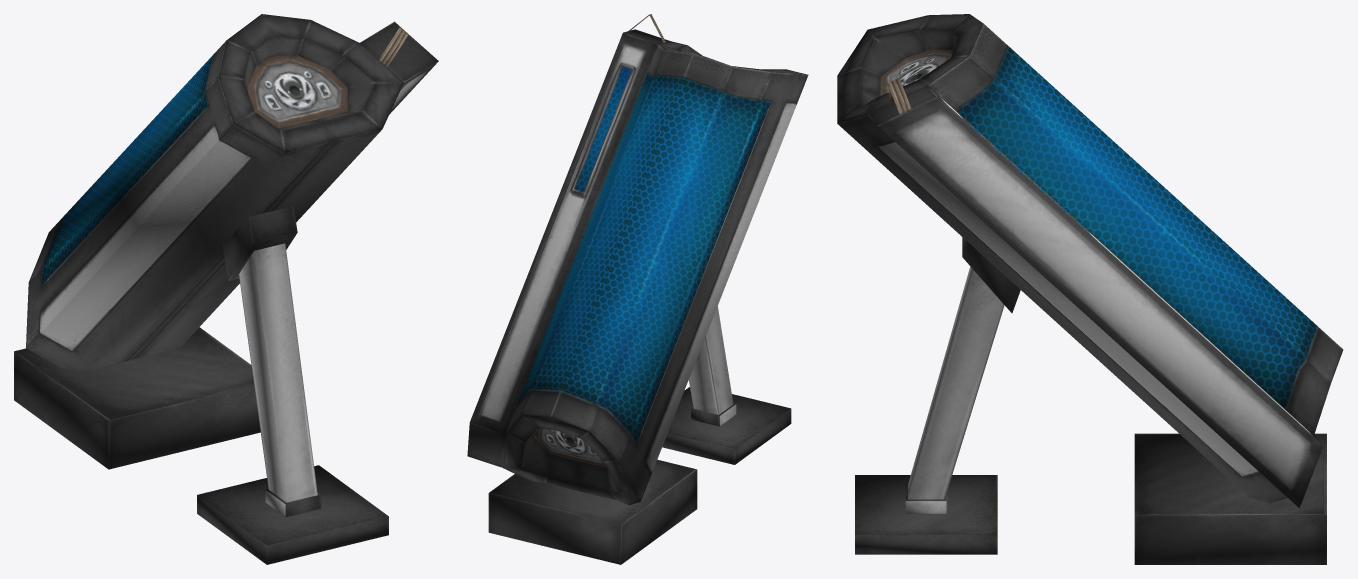
Rendered from ability_developer_block_item.obj.
3 renders of one model, left to right at view 1: azimuth 30°, elevation 25°; view 2: azimuth 150°, elevation 25°; view 3: azimuth 270°, elevation 25°, orthographic. The views are drawn at different scales.
Visible parts, largest first — view 1: ability_developer_block; view 2: ability_developer_block; view 3: ability_developer_block.
Part boxes in pixels (x1,y1,x2,y2): ability_developer_block: (14,14,438,564); ability_developer_block: (467,14,808,564); ability_developer_block: (837,14,1343,564).
Bounding box in the file's own units: 1.28 × 2.86 × 2.63.
